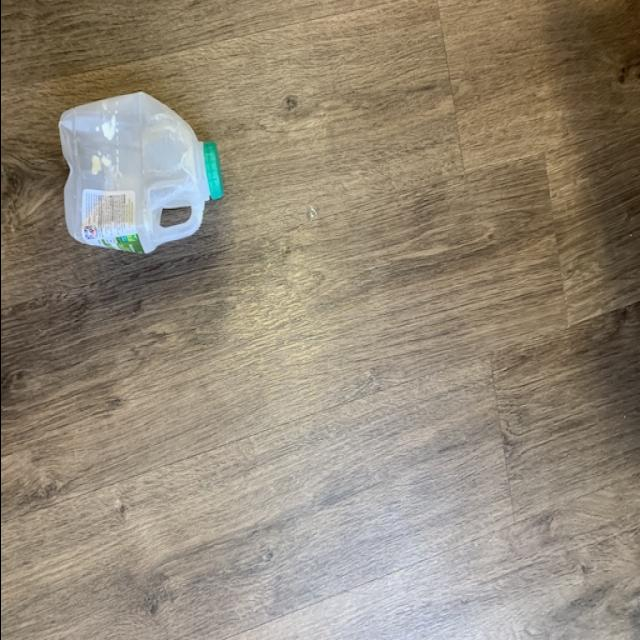HDPEM: (51, 85, 224, 263)
